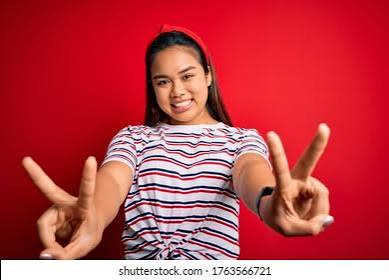peace_sign: (260, 115, 339, 238), (18, 151, 101, 259)
